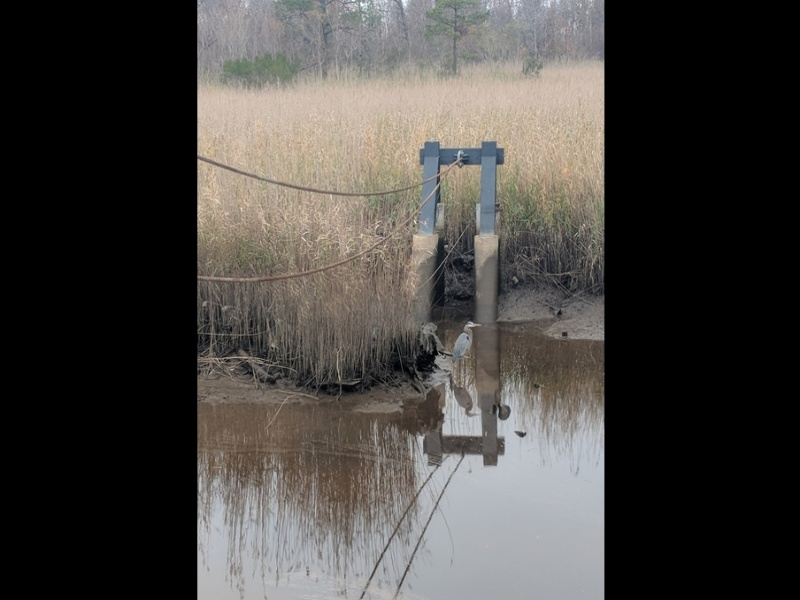heron: (448, 320, 481, 382)
